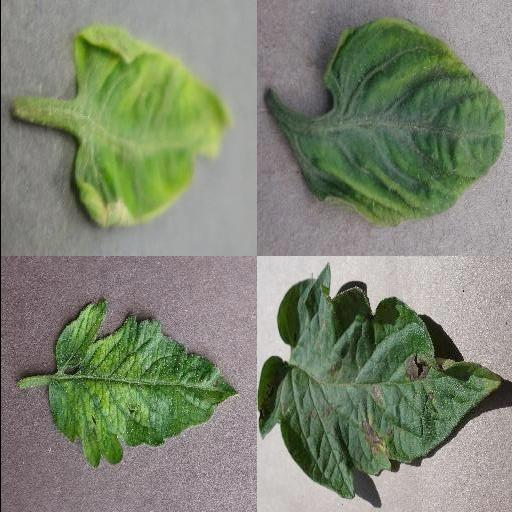Early Blight: (256, 263, 502, 498)
Mosaic Virus: (48, 296, 240, 470)
Yellow Leaf Curl Virus: (288, 16, 510, 232), (68, 26, 234, 231)
